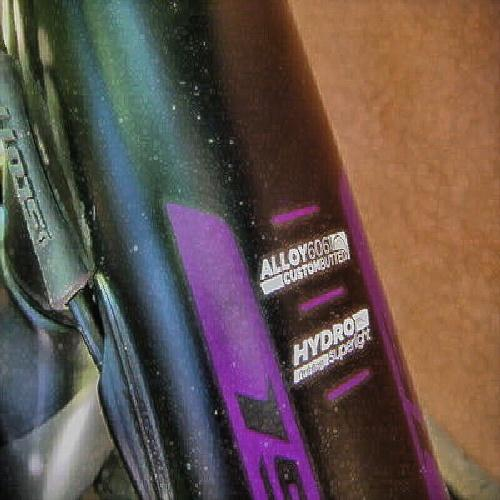bicycle: (1, 17, 443, 490)
